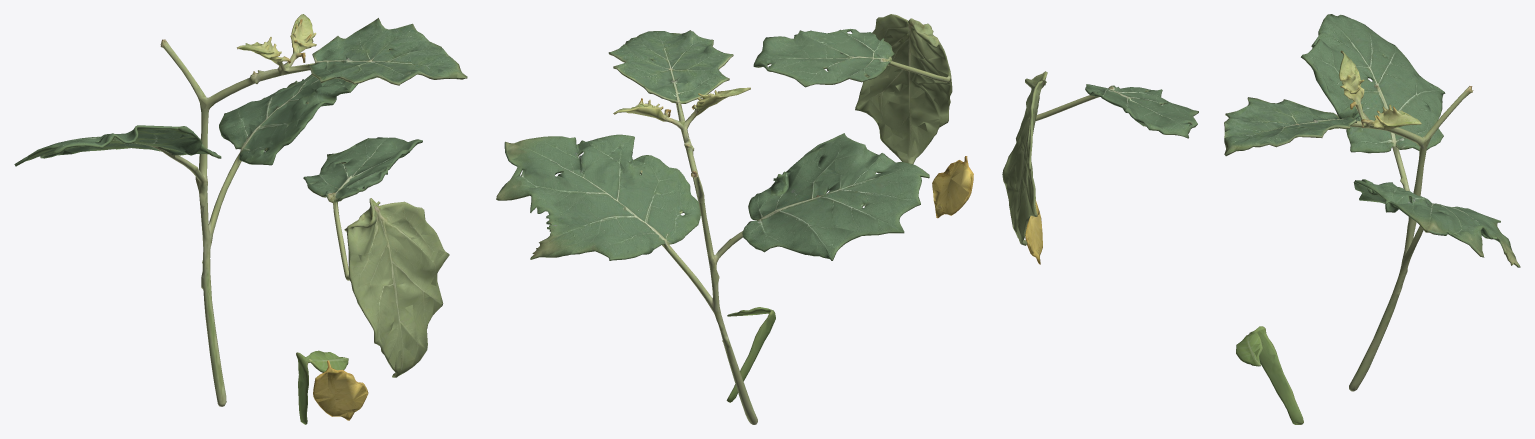
The model's file is planta_tipo_2.fbx.
3 views of the same model, side by side, from view 1: azimuth 30°, elevation 25°; view 2: azimuth 150°, elevation 25°; view 3: azimuth 270°, elevation 25° (orthographic). The views are drawn at different scales.
Parts seen in each view (by area): view 1: tripo_node_d5d76695; view 2: tripo_node_d5d76695; view 3: tripo_node_d5d76695.
Part boxes in pixels (x1,y1,x2,y2): tripo_node_d5d76695: (14,14,467,424); tripo_node_d5d76695: (496,14,973,424); tripo_node_d5d76695: (1002,14,1520,424).
Bounding box in the file's own units: 10.71 × 9.01 × 11.95.
1 material, 1 textured.
